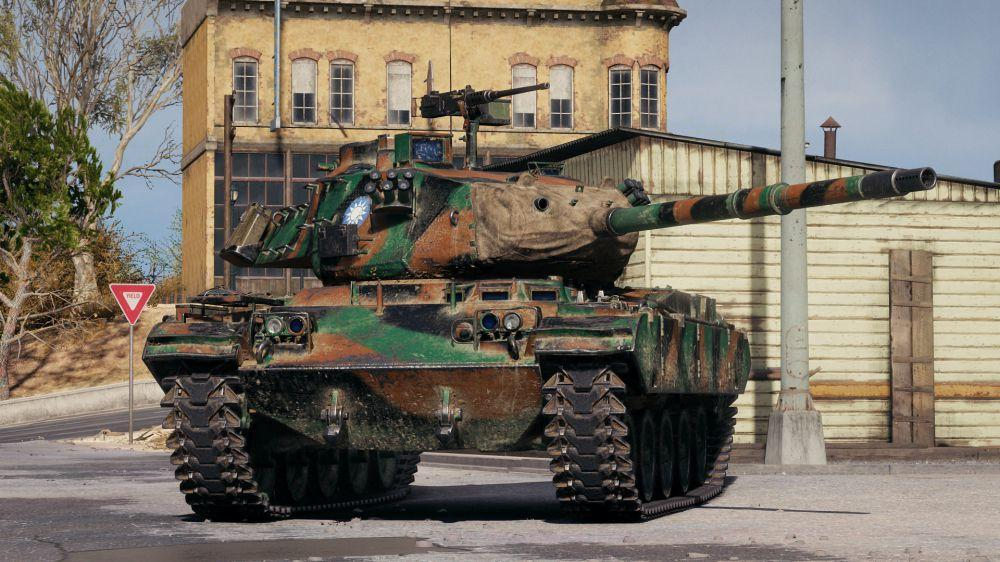tank: (140, 80, 939, 523)
